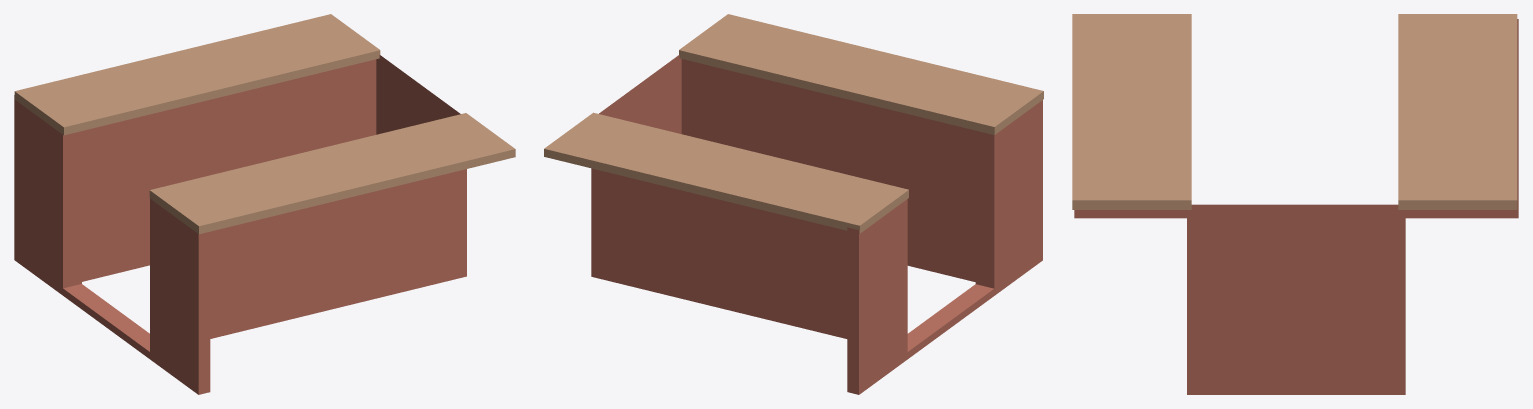
Rendered from SM_Couloir.fbx.
3 renders of one model, left to right at view 1: azimuth 30°, elevation 25°; view 2: azimuth 150°, elevation 25°; view 3: azimuth 270°, elevation 25°, orthographic. The views are drawn at different scales.
Parts seen in each view (by area): view 1: pCube106; view 2: pCube106; view 3: pCube106.
Part boxes in pixels (bbox=[...]): pCube106: bbox=[14, 14, 515, 394]; pCube106: bbox=[544, 14, 1043, 394]; pCube106: bbox=[1072, 14, 1518, 394].
Size of the model in its own units: 170 by 86.86 by 172.
